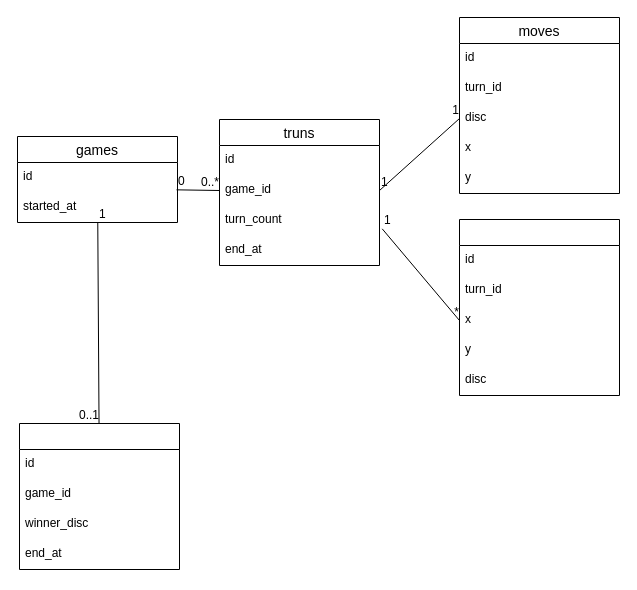
The diagram is 637 pixels wide and 590 high, and some of its shapes have lost their labels. Here are the shapes that lost their labels. From the top down, the box of each, then its label:
(458, 218, 620, 396): squares
(18, 422, 180, 570): game_results
